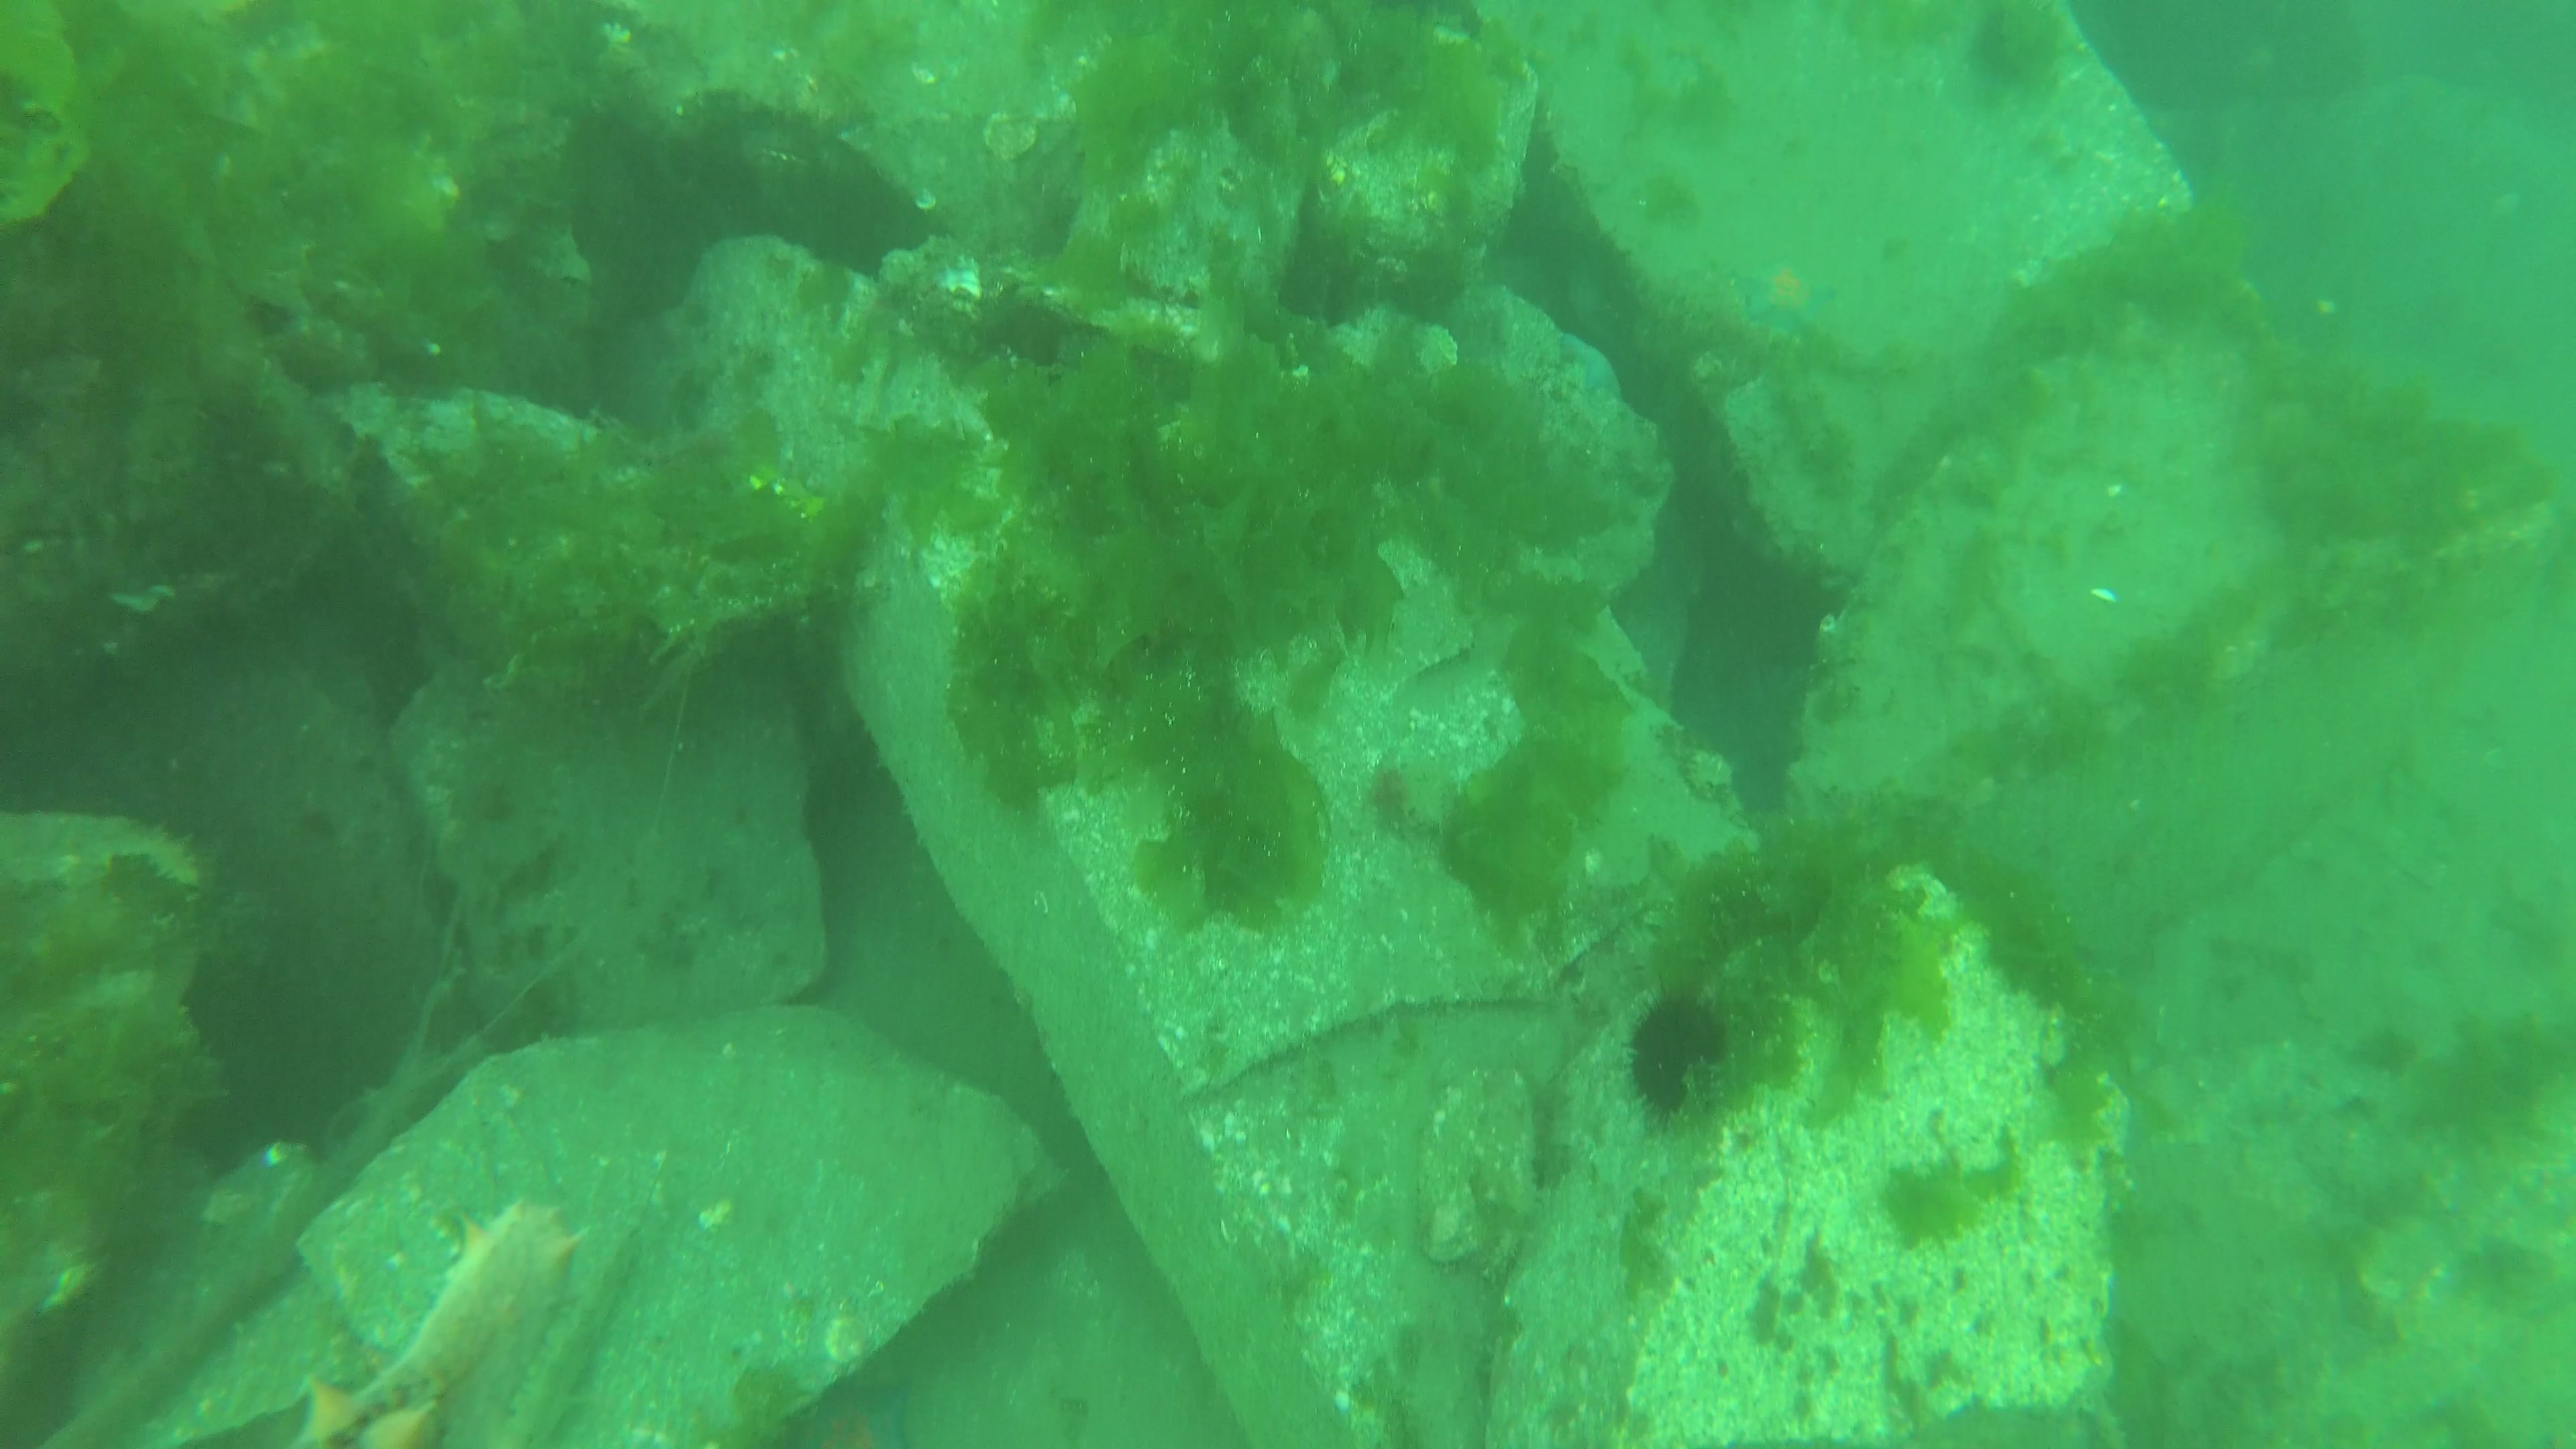echinus: (1617, 975, 1732, 1136)
holothurian: (281, 1178, 587, 1449), (1479, 1228, 1518, 1284)
starfish: (1736, 255, 1838, 338), (791, 1382, 911, 1449), (1560, 333, 1622, 396), (1566, 253, 1615, 326)
